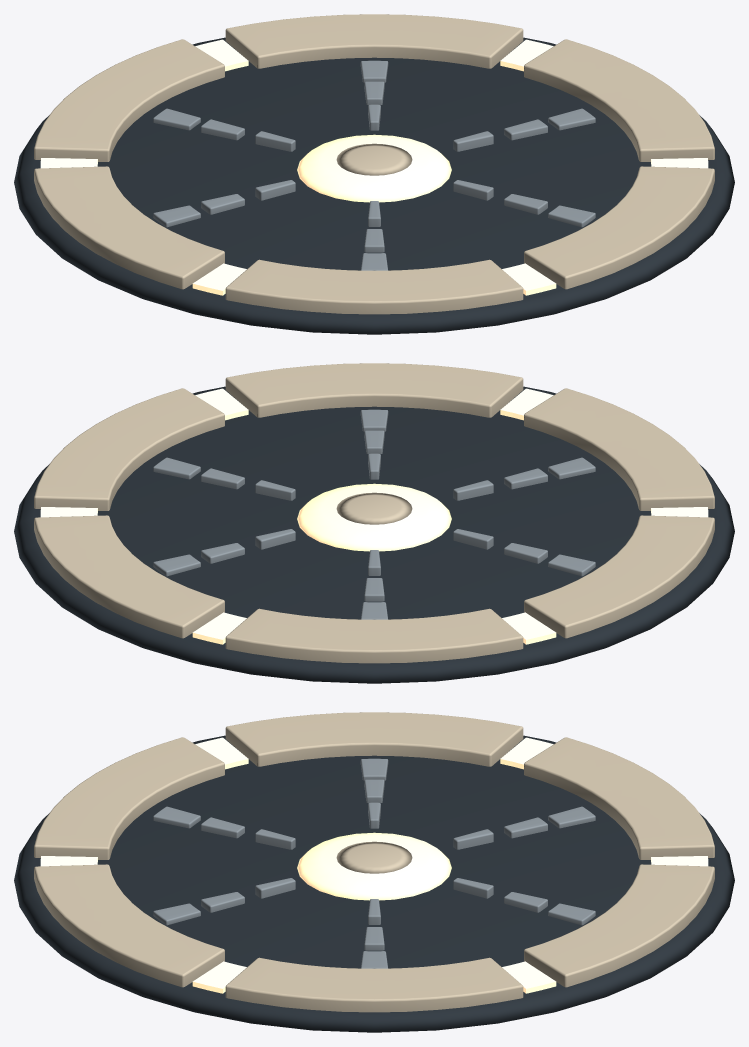
The model's file is LaunchPad.fbx.
3 renders of one model, top to bottom at view 1: azimuth 30°, elevation 25°; view 2: azimuth 150°, elevation 25°; view 3: azimuth 270°, elevation 25°, orthographic.
Parts seen in each view (by area): view 1: LaunchPad_Mount; view 2: LaunchPad_Mount; view 3: LaunchPad_Mount.
Part boxes in pixels (left/top/right/bottom): LaunchPad_Mount: left=14, top=14, right=734, bottom=334; LaunchPad_Mount: left=14, top=363, right=734, bottom=683; LaunchPad_Mount: left=14, top=712, right=734, bottom=1032.
Bounding box in the file's own units: 1.9 × 0.072 × 1.9.
